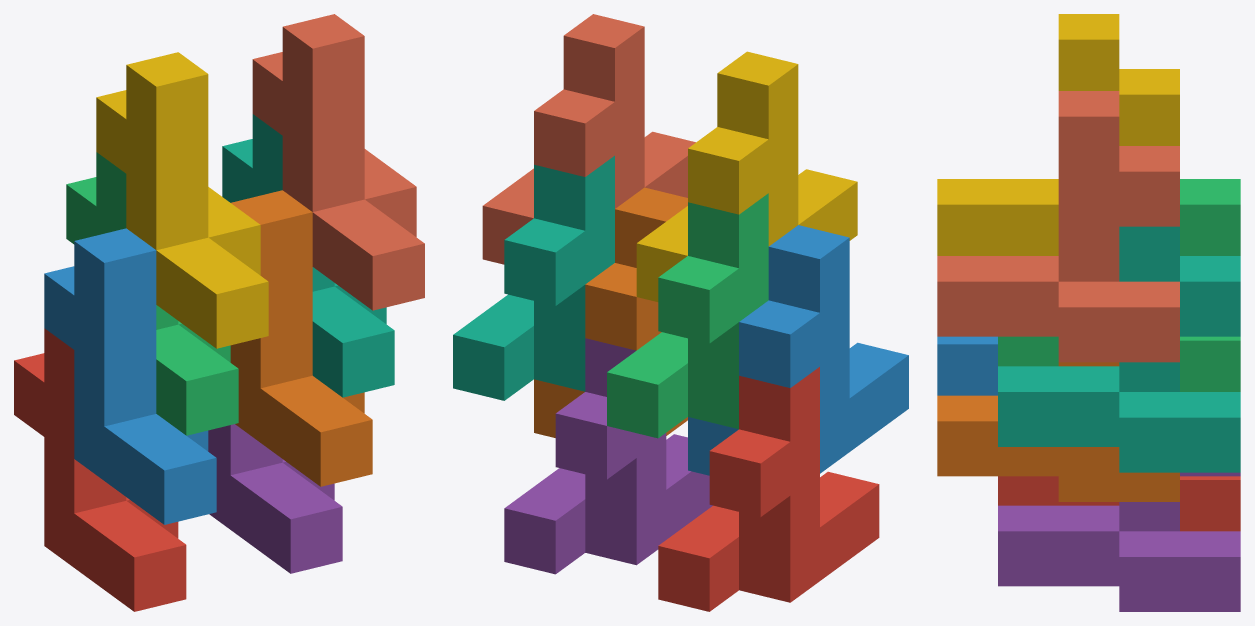
File: tiling.obj
3 renders of one model, left to right at view 1: azimuth 30°, elevation 25°; view 2: azimuth 150°, elevation 25°; view 3: azimuth 270°, elevation 25°, orthographic. The views are drawn at different scales.
Parts seen in each view (by area): view 1: copy_1_domain_4, copy_1_domain_8, copy_1_domain_2, copy_1_domain_6, copy_1_domain_1, copy_1_domain_5, copy_1_domain_3, copy_1_domain_7; view 2: copy_1_domain_1, copy_1_domain_5, copy_1_domain_7, copy_1_domain_2, copy_1_domain_3, copy_1_domain_4, copy_1_domain_8, copy_1_domain_6; view 3: copy_1_domain_8, copy_1_domain_7, copy_1_domain_5, copy_1_domain_4, copy_1_domain_6, copy_1_domain_3, copy_1_domain_1, copy_1_domain_2.
Part boxes in pixels (<box>): copy_1_domain_4: <box>96,52,268,348</box>; copy_1_domain_8: <box>252,14,424,310</box>; copy_1_domain_2: <box>44,228,216,524</box>; copy_1_domain_6: <box>230,190,372,486</box>; copy_1_domain_1: <box>14,328,186,611</box>; copy_1_domain_5: <box>208,424,342,573</box>; copy_1_domain_3: <box>66,152,238,435</box>; copy_1_domain_7: <box>222,114,394,397</box>; copy_1_domain_1: <box>658,367,879,611</box>; copy_1_domain_5: <box>504,338,712,574</box>; copy_1_domain_7: <box>453,155,614,400</box>; copy_1_domain_2: <box>688,225,908,475</box>; copy_1_domain_3: <box>607,193,768,438</box>; copy_1_domain_4: <box>636,51,857,301</box>; copy_1_domain_8: <box>482,14,695,264</box>; copy_1_domain_6: <box>534,187,687,437</box>; copy_1_domain_8: <box>937,91,1179,362</box>; copy_1_domain_7: <box>998,226,1240,472</box>; copy_1_domain_5: <box>998,472,1240,611</box>; copy_1_domain_4: <box>937,14,1179,255</box>; copy_1_domain_6: <box>937,362,1179,501</box>; copy_1_domain_3: <box>998,179,1240,391</box>; copy_1_domain_1: <box>998,476,1240,531</box>; copy_1_domain_2: <box>937,336,997,395</box>.
Bounding box in the file's own units: 6 × 9 × 5.
